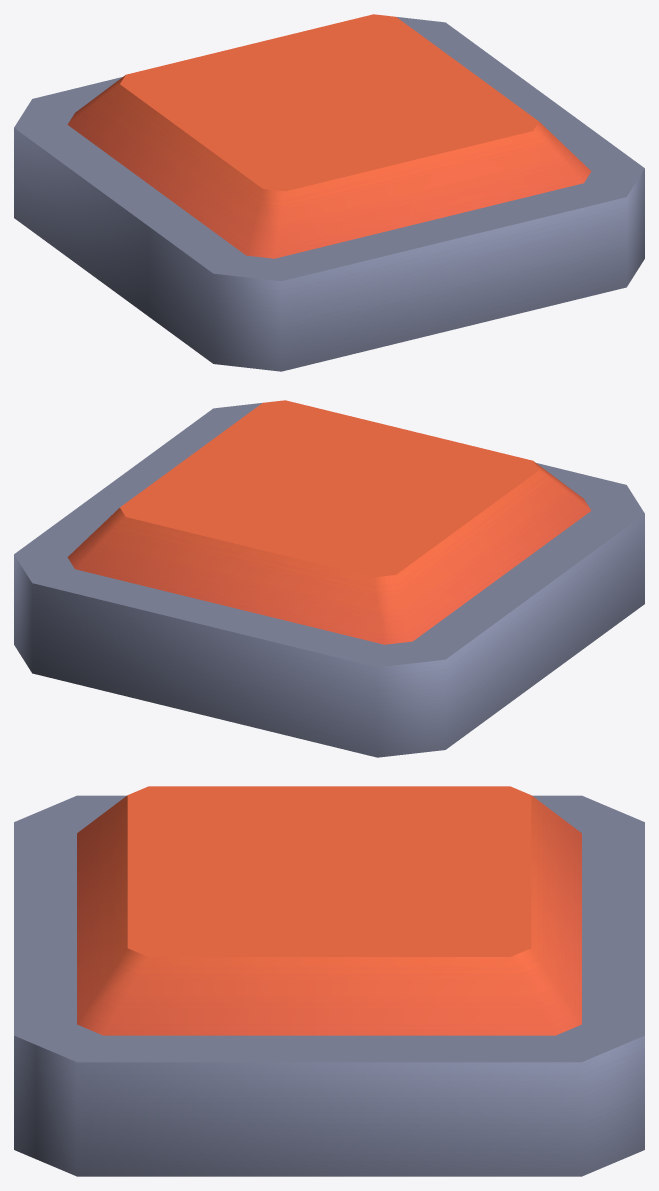
Rendered from button-floor-square-small.fbx.
3 views of the same model, one above another, from view 1: azimuth 30°, elevation 25°; view 2: azimuth 150°, elevation 25°; view 3: azimuth 270°, elevation 25° (orthographic). The views are drawn at different scales.
Parts seen in each view (by area): view 1: button-floor-square-small, button; view 2: button-floor-square-small, button; view 3: button, button-floor-square-small.
Part boxes in pixels (box(x1,y1,x2,y2)): button-floor-square-small: box(14, 17, 644, 371); button: box(67, 14, 591, 258); button-floor-square-small: box(14, 403, 644, 757); button: box(67, 400, 591, 644); button: box(77, 786, 581, 1035); button-floor-square-small: box(14, 795, 644, 1176).
Bounding box in the file's own units: 50 × 15 × 50.
